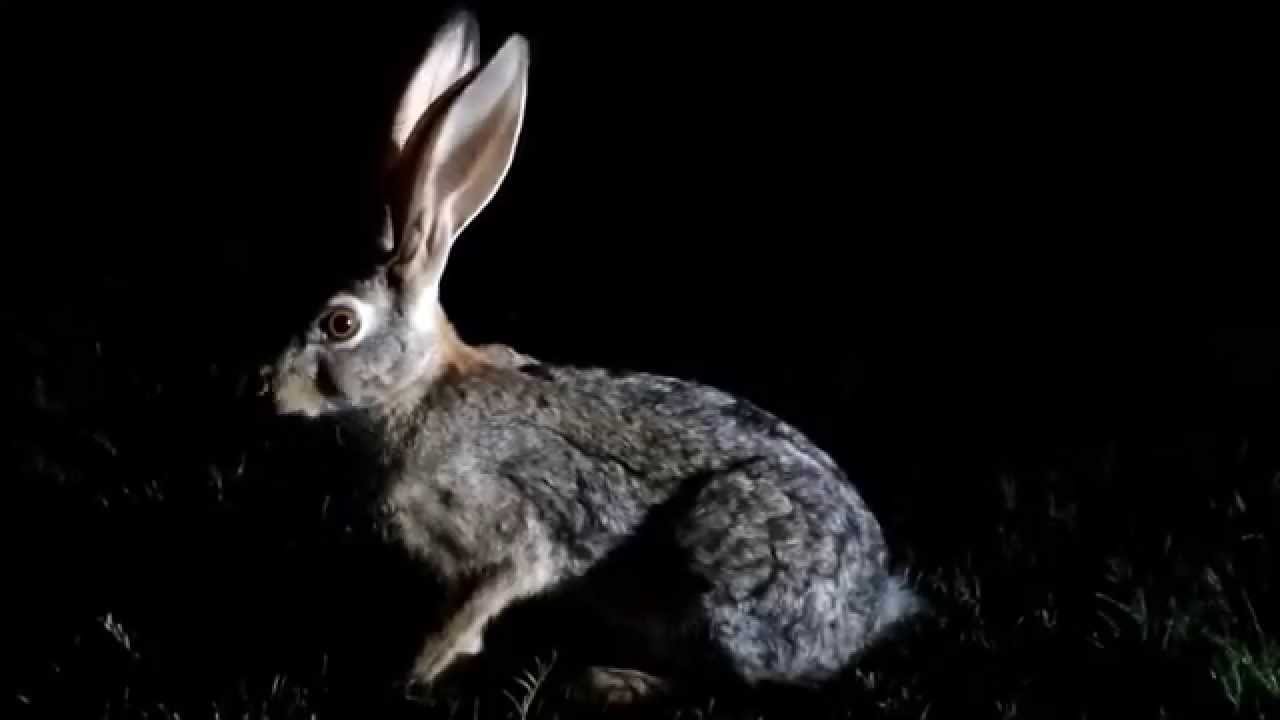bunny: (153, 18, 992, 720)
